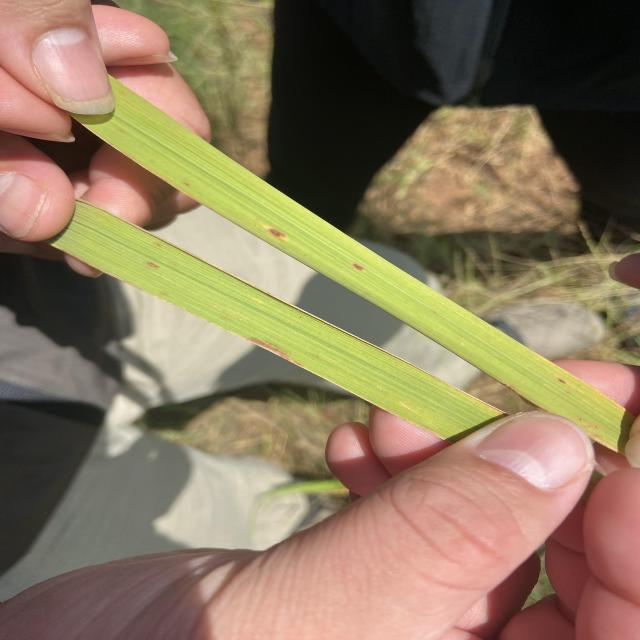Dom nau: (269, 228, 286, 239), (352, 263, 364, 271), (145, 262, 159, 268), (557, 378, 567, 385), (184, 182, 190, 186)
